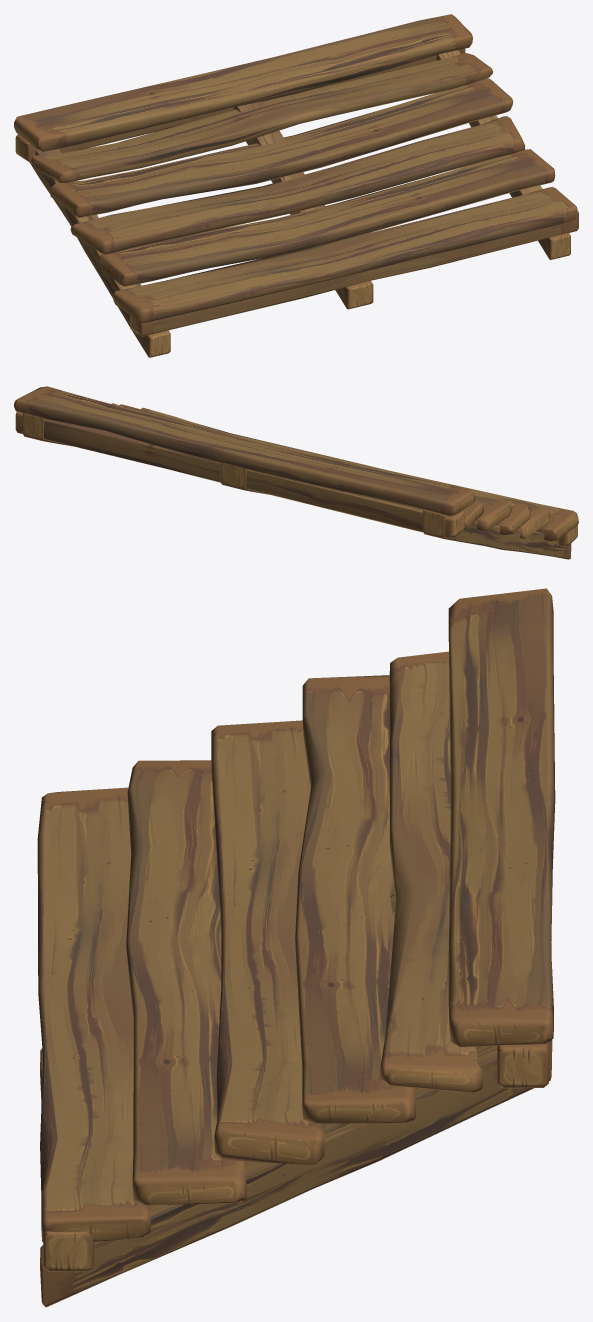
The model's file is SM_MOD_stairs_town_01_01.fbx.
The picture shows the model from 3 angles, top to bottom: view 1: azimuth 30°, elevation 25°; view 2: azimuth 150°, elevation 25°; view 3: azimuth 270°, elevation 25°; orthographic projection. The views are drawn at different scales.
Parts seen in each view (by area): view 1: SM_MOD_stairs_town_01_01_LOD0; view 2: SM_MOD_stairs_town_01_01_LOD0; view 3: SM_MOD_stairs_town_01_01_LOD0.
Part boxes in pixels (x1,y1,x2,y2): SM_MOD_stairs_town_01_01_LOD0: (14,14,578,357); SM_MOD_stairs_town_01_01_LOD0: (14,386,578,559); SM_MOD_stairs_town_01_01_LOD0: (37,588,555,1307).
Size of what is drawn, in the model's own units: 403 by 131 by 203.
